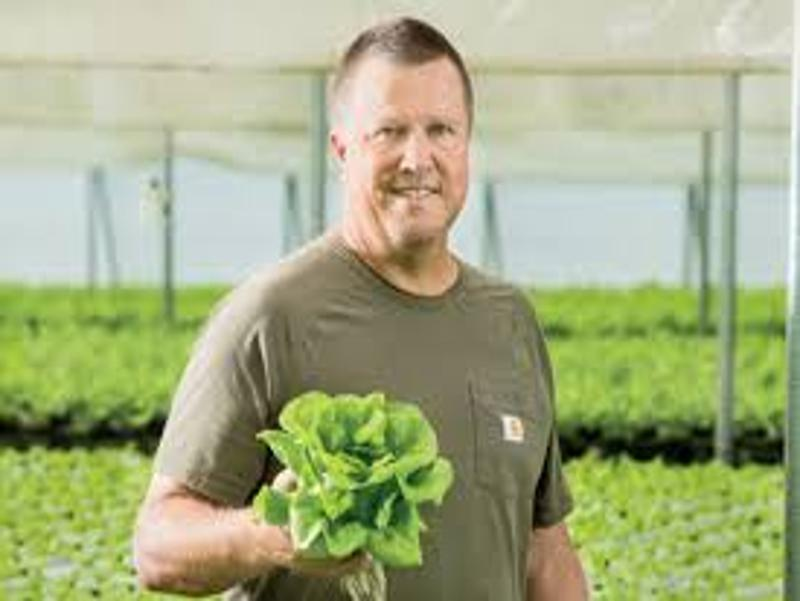cabbage: (270, 391, 460, 564)
